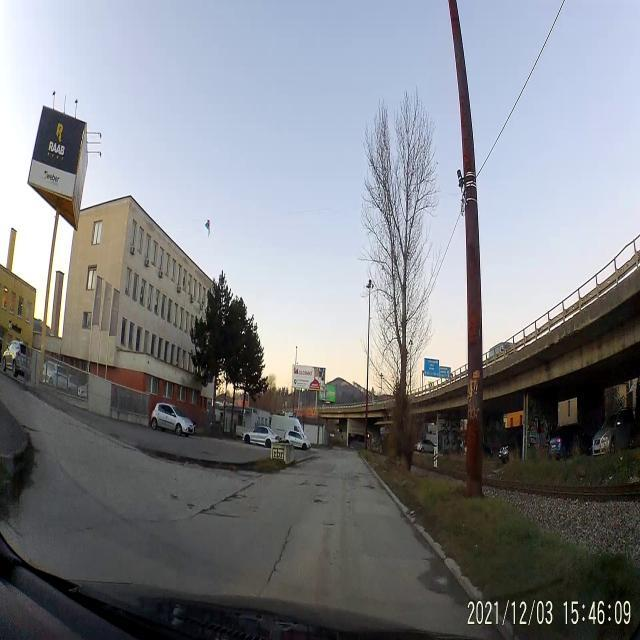Pothole: (196, 482, 254, 520), (310, 496, 328, 511)
